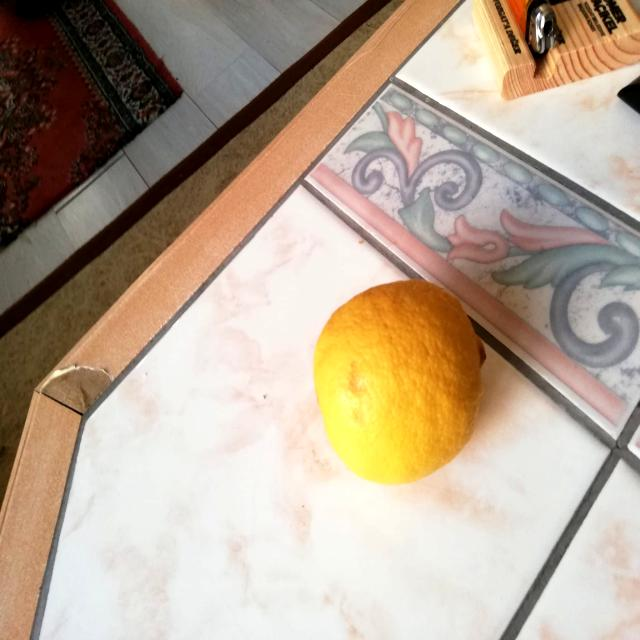lemon: (308, 268, 490, 492)
